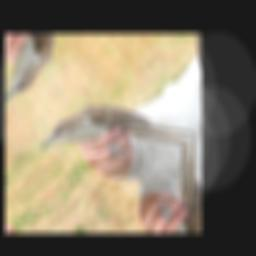Cuckoo: (36, 56, 196, 218)
